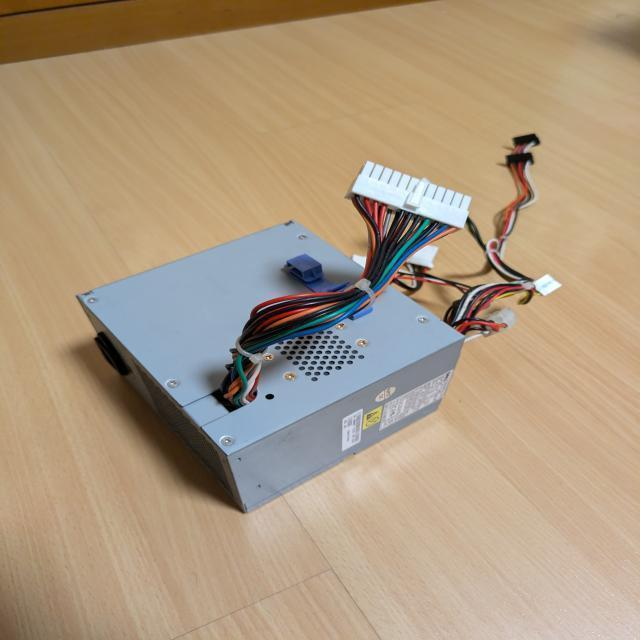PSU: (76, 218, 467, 516)
